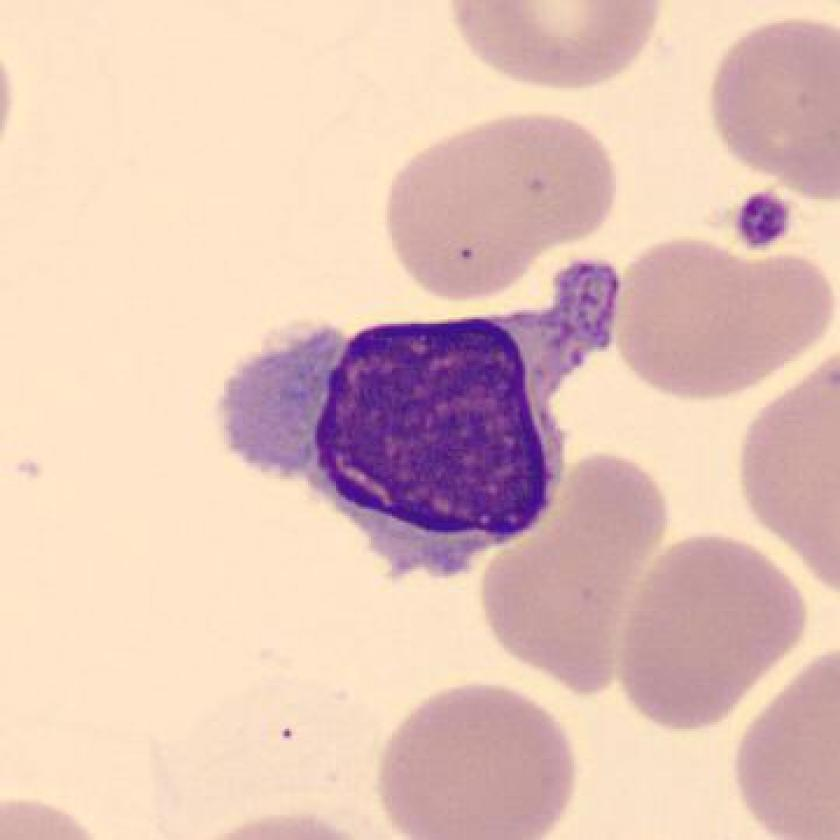lymphocyte: (197, 249, 636, 596)
